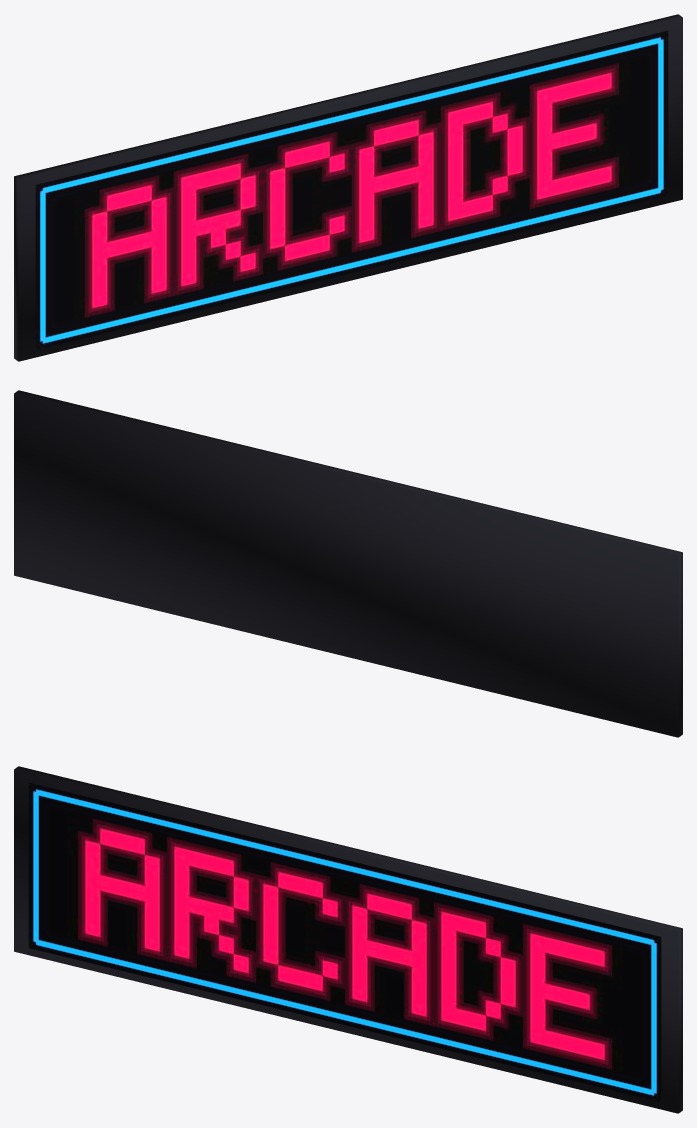
The model's file is arcade_sign_bar.glb.
3 views of the same model, one above another, from view 1: azimuth 30°, elevation 25°; view 2: azimuth 150°, elevation 25°; view 3: azimuth 330°, elevation 25° (orthographic).
Parts seen in each view (by area): view 1: Arcade sign, Sign backer; view 2: Sign backer; view 3: Arcade sign, Sign backer.
Part boxes in pixels (box(x1,y1,x2,y2)): Arcade sign: box(35, 30, 668, 350); Sign backer: box(14, 14, 682, 361); Sign backer: box(14, 390, 682, 737); Arcade sign: box(28, 782, 661, 1102); Sign backer: box(14, 766, 682, 1113).
Size of the model in its own units: 1.68 by 0.44 by 0.025.
2 materials, 1 textured.
